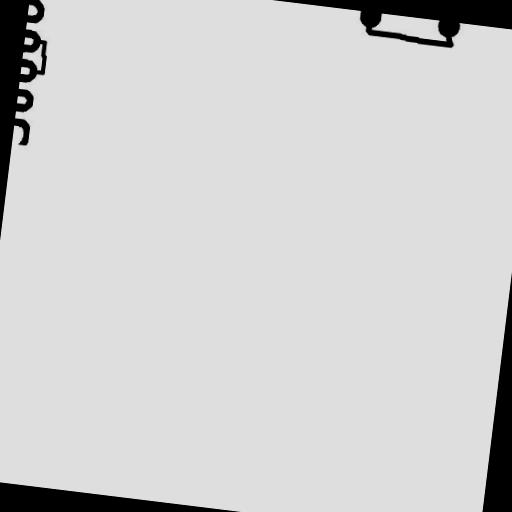short: (356, 15, 463, 56), (26, 32, 57, 84)
